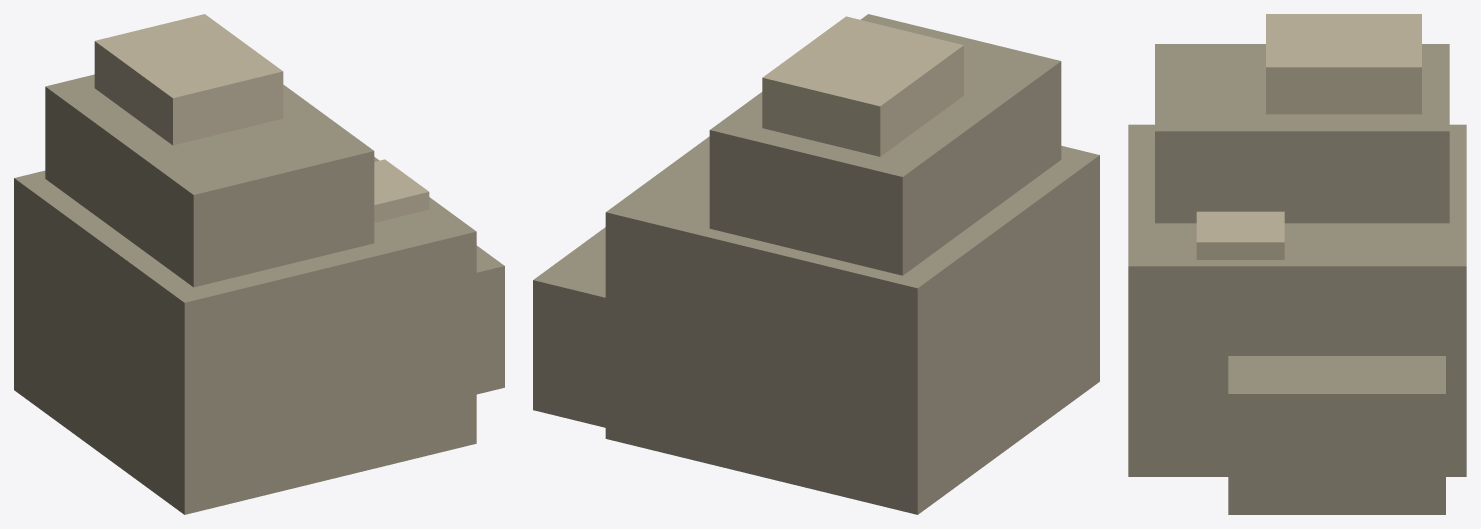
Rendered from fbx_rock03.fbx.
3 views of the same model, side by side, from view 1: azimuth 30°, elevation 25°; view 2: azimuth 150°, elevation 25°; view 3: azimuth 270°, elevation 25° (orthographic). The views are drawn at different scales.
Visible parts, largest first — view 1: sm_rock03; view 2: sm_rock03; view 3: sm_rock03.
Boxes of the visible parts, x1,y1,x2,y2 form: sm_rock03: (14,14,504,514); sm_rock03: (533,14,1099,514); sm_rock03: (1128,14,1466,514).
Bounding box in the file's own units: 76.59 × 69.47 × 61.01.
